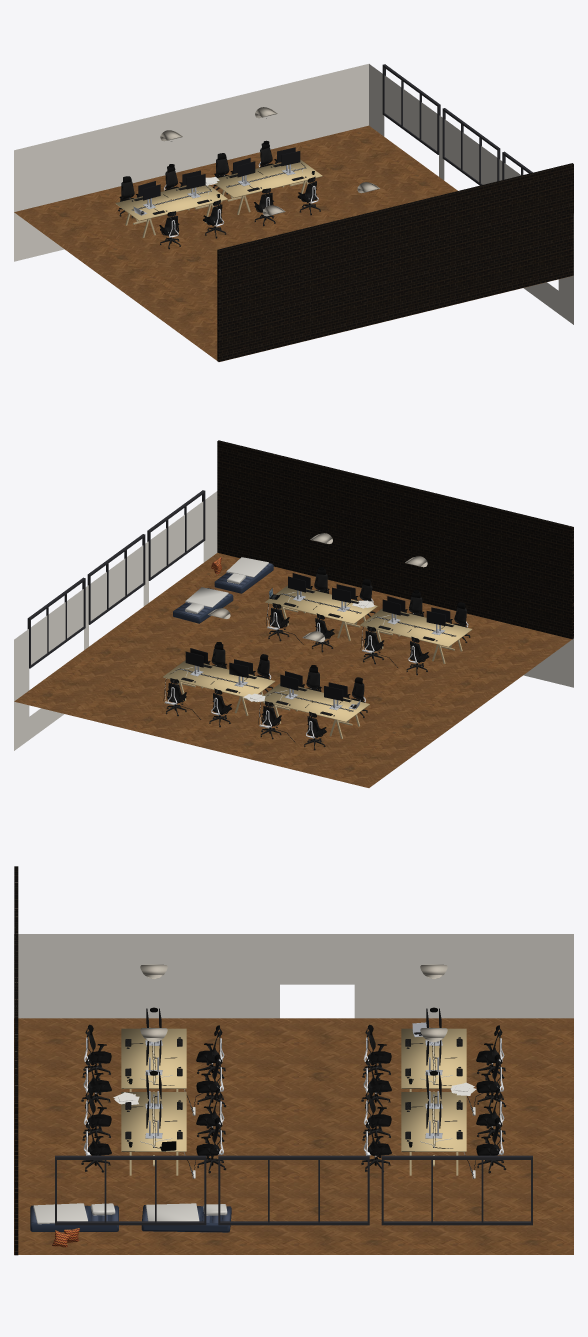
The model's file is set12.glb.
3 views of the same model, one above another, from view 1: azimuth 30°, elevation 25°; view 2: azimuth 150°, elevation 25°; view 3: azimuth 270°, elevation 25° (orthographic). The views are drawn at different scales.
Parts seen in each view (by area): view 1: Static; view 2: Static; view 3: Static.
Boxes of the visible parts, x1,y1,x2,y2 form: Static: (14, 64, 573, 361); Static: (14, 440, 573, 787); Static: (14, 866, 573, 1255).
Bounding box in the file's own units: 12.04 × 5.2 × 12.
31 materials, 15 textured.
